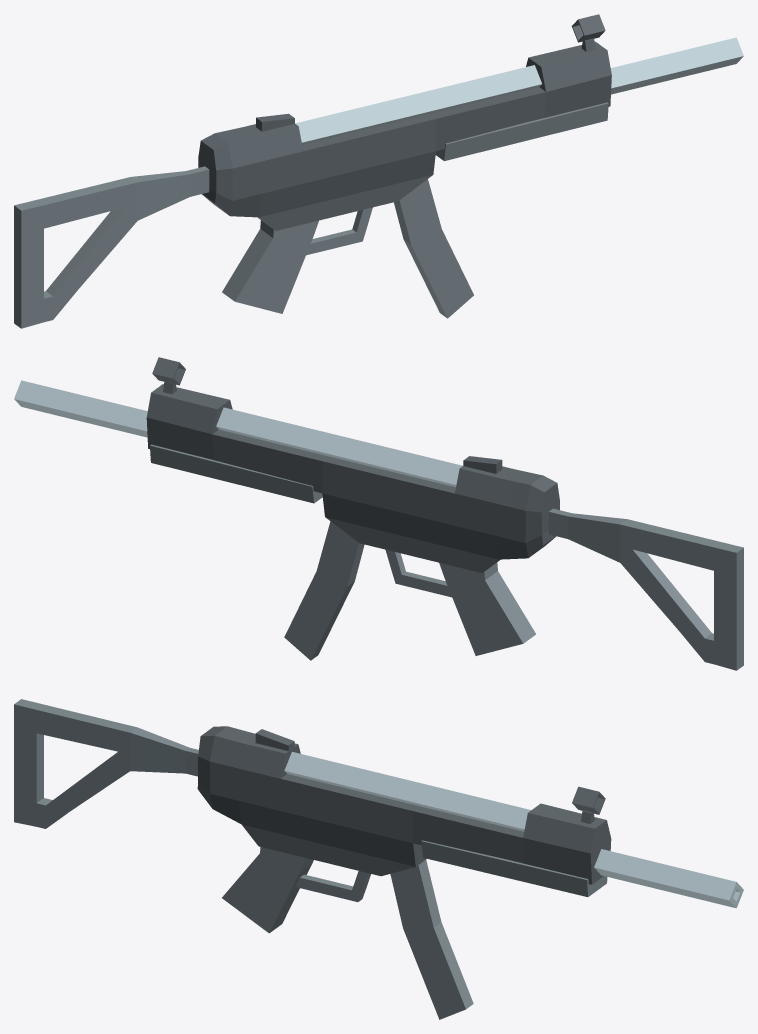
3 renders of one model, top to bottom at view 1: azimuth 30°, elevation 25°; view 2: azimuth 150°, elevation 25°; view 3: azimuth 330°, elevation 25°, orthographic.
Parts seen in each view (by area): view 1: mp5; view 2: mp5; view 3: mp5.
Part boxes in pixels (x1,y1,x2,y2): mp5: (14,14,743,328); mp5: (14,357,743,670); mp5: (14,699,743,1019).
Size of the model in its own units: 3.63 by 61.77 by 21.61.
